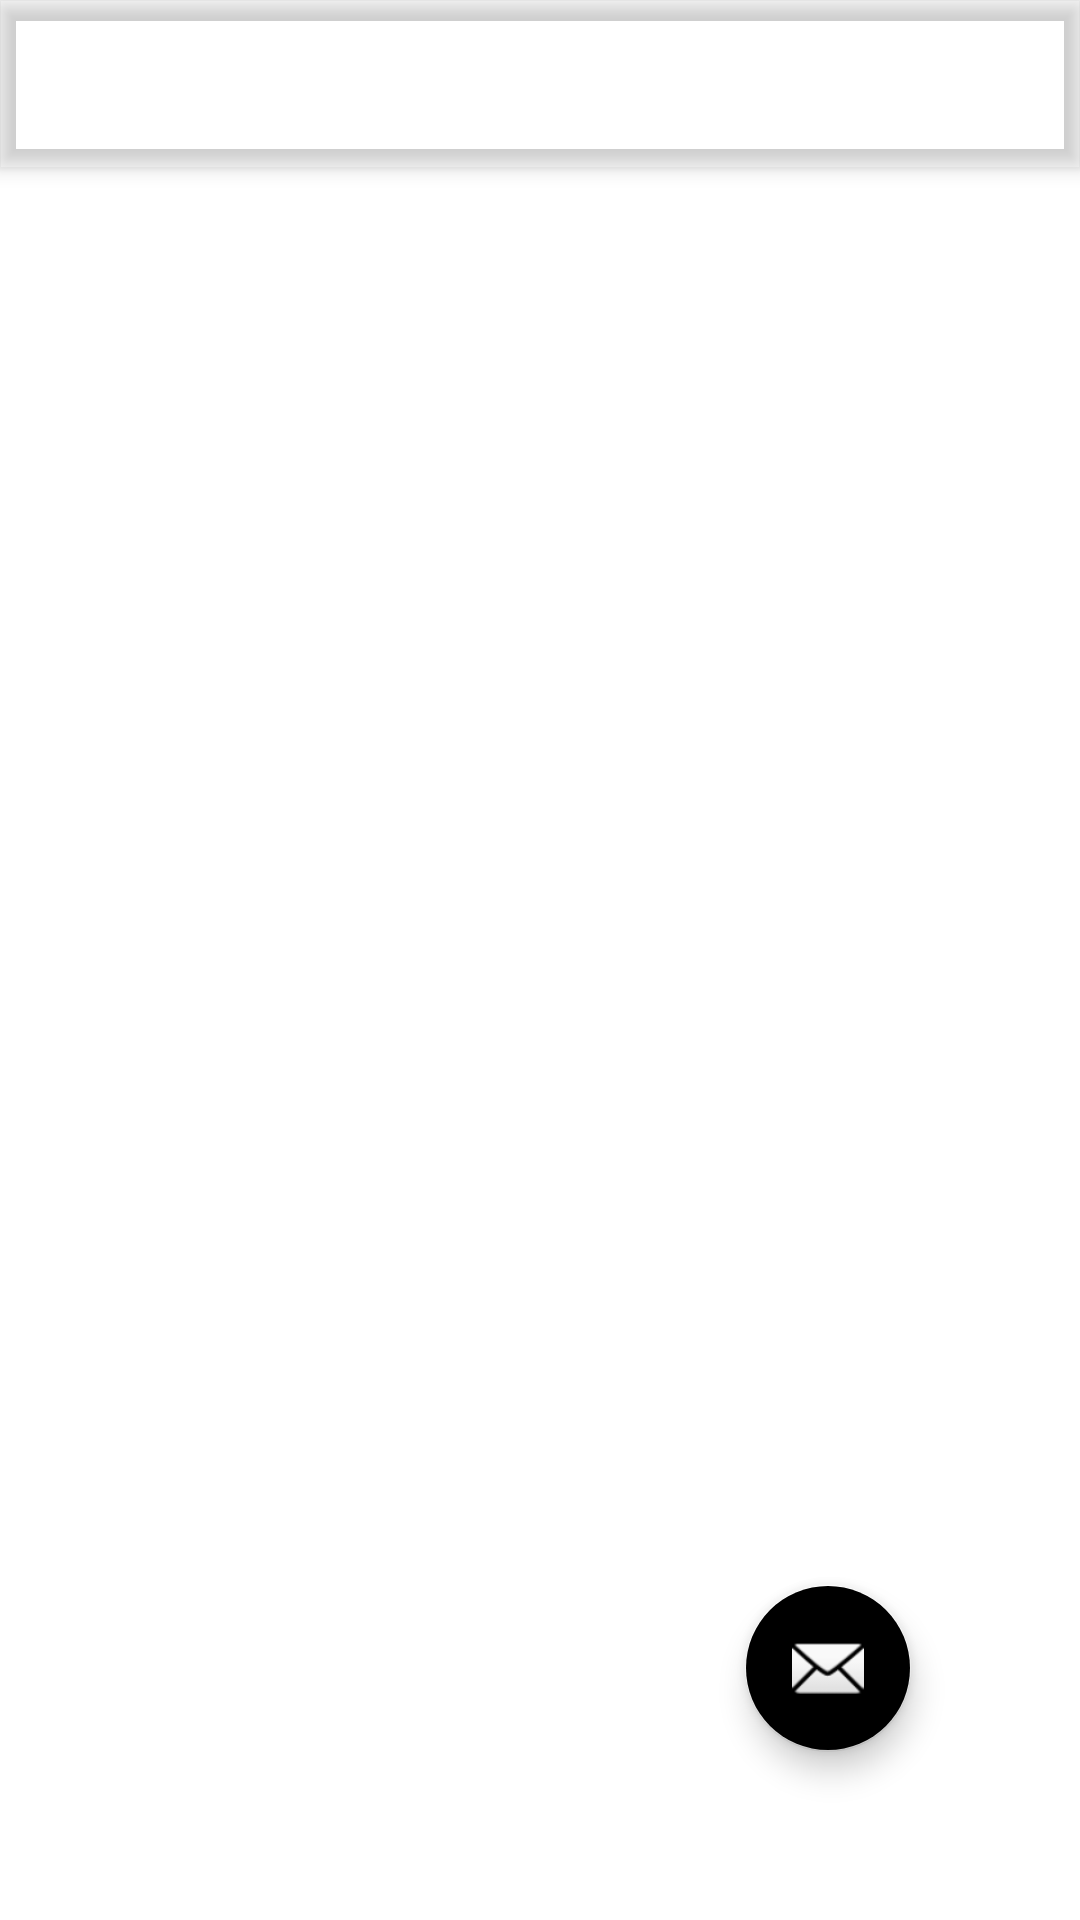

Named icons in this screenshot (1080 x 1920) and their bounding boxes, (x1=x1, y1=y1, x2=x2, y2=y2):
email: (x1=746, y1=1586, x2=912, y2=1752)
